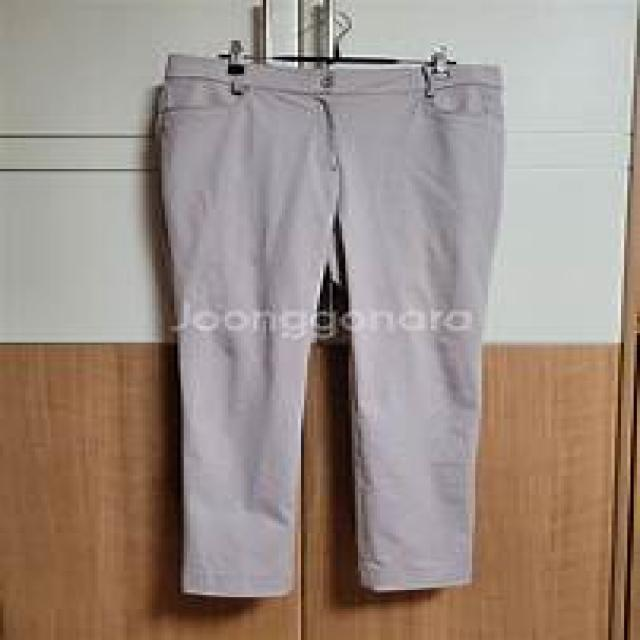long-pants: (153, 52, 508, 600)
